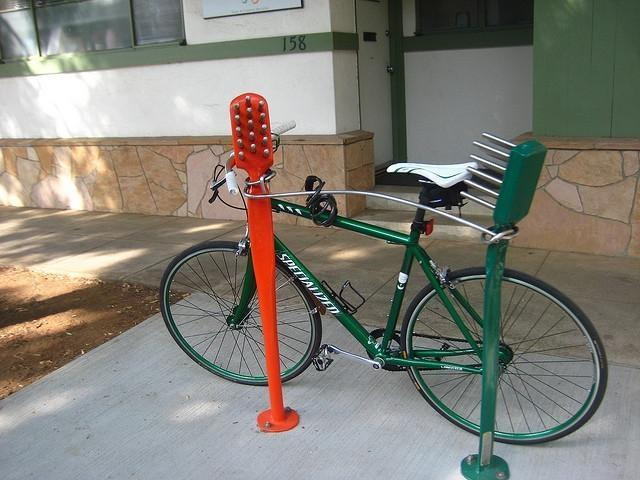bicycle: (161, 120, 611, 438)
